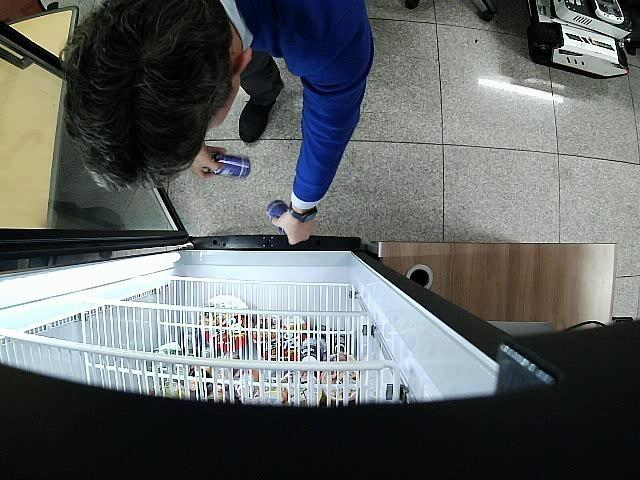14_welchsGrape: (208, 154, 251, 178), (265, 200, 287, 232)
